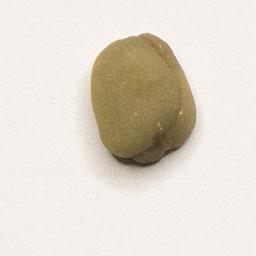premium: (87, 30, 201, 169)
